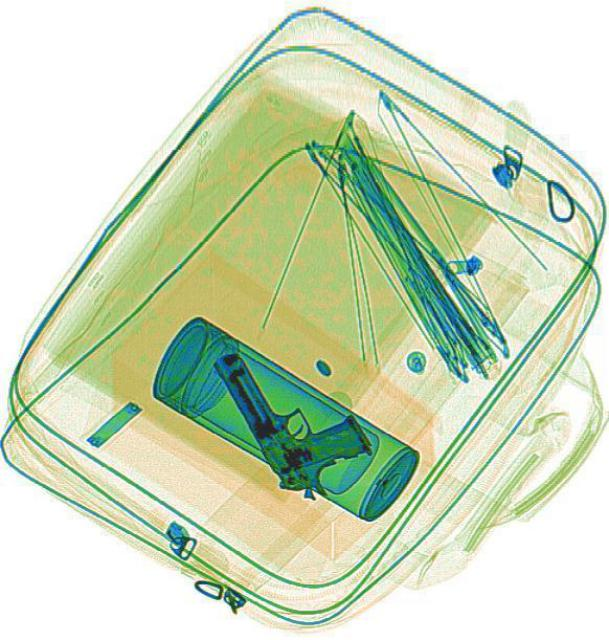Gun: (208, 316, 379, 510)
